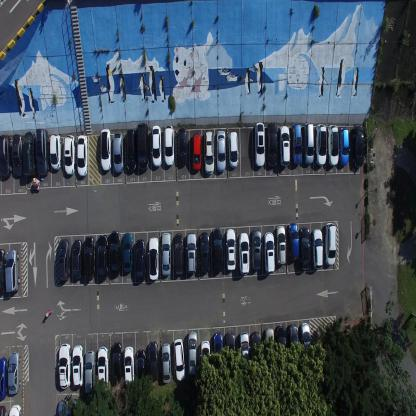car: (35, 127, 49, 176), (136, 121, 149, 171), (287, 323, 300, 372), (6, 248, 20, 293), (22, 129, 35, 177), (108, 230, 121, 278), (212, 330, 225, 378), (58, 341, 71, 389), (299, 321, 311, 372), (84, 348, 97, 395), (352, 124, 365, 170), (7, 350, 20, 396), (250, 330, 263, 376), (173, 336, 186, 382), (57, 237, 70, 282), (224, 331, 236, 379), (111, 340, 123, 388), (76, 134, 89, 178), (83, 234, 96, 278), (200, 339, 211, 390), (63, 133, 76, 176), (100, 126, 112, 172), (311, 226, 323, 271), (324, 221, 336, 266), (112, 131, 124, 176), (0, 133, 12, 178), (134, 238, 146, 283), (72, 342, 84, 387), (238, 231, 250, 275), (315, 122, 327, 166), (96, 232, 107, 280), (264, 326, 276, 370), (239, 330, 250, 378), (212, 226, 223, 273), (254, 121, 265, 168), (267, 121, 278, 168), (327, 123, 339, 166), (148, 236, 159, 282), (97, 346, 108, 392), (11, 134, 23, 176), (225, 227, 236, 272), (203, 130, 214, 175), (49, 132, 62, 170), (278, 125, 290, 166), (275, 224, 287, 265), (288, 221, 300, 262), (57, 397, 84, 415), (291, 122, 302, 166), (303, 120, 314, 164), (275, 326, 286, 370), (251, 228, 262, 271), (163, 124, 174, 167), (71, 238, 82, 281), (264, 231, 275, 273), (148, 340, 159, 382), (123, 346, 134, 388), (188, 330, 198, 376), (161, 231, 171, 276), (126, 127, 136, 172), (136, 348, 146, 393), (177, 127, 188, 167), (174, 232, 184, 276), (300, 226, 310, 270), (122, 230, 132, 274), (161, 341, 171, 385), (152, 124, 162, 167), (186, 232, 196, 274), (228, 130, 239, 168), (192, 131, 202, 172), (216, 129, 225, 173), (200, 231, 209, 274), (340, 127, 350, 165), (0, 355, 8, 401), (0, 247, 6, 296), (8, 402, 21, 415), (0, 403, 7, 415)
